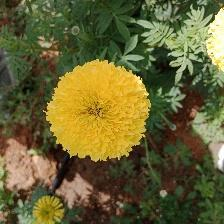marigold: (42, 60, 157, 165)
